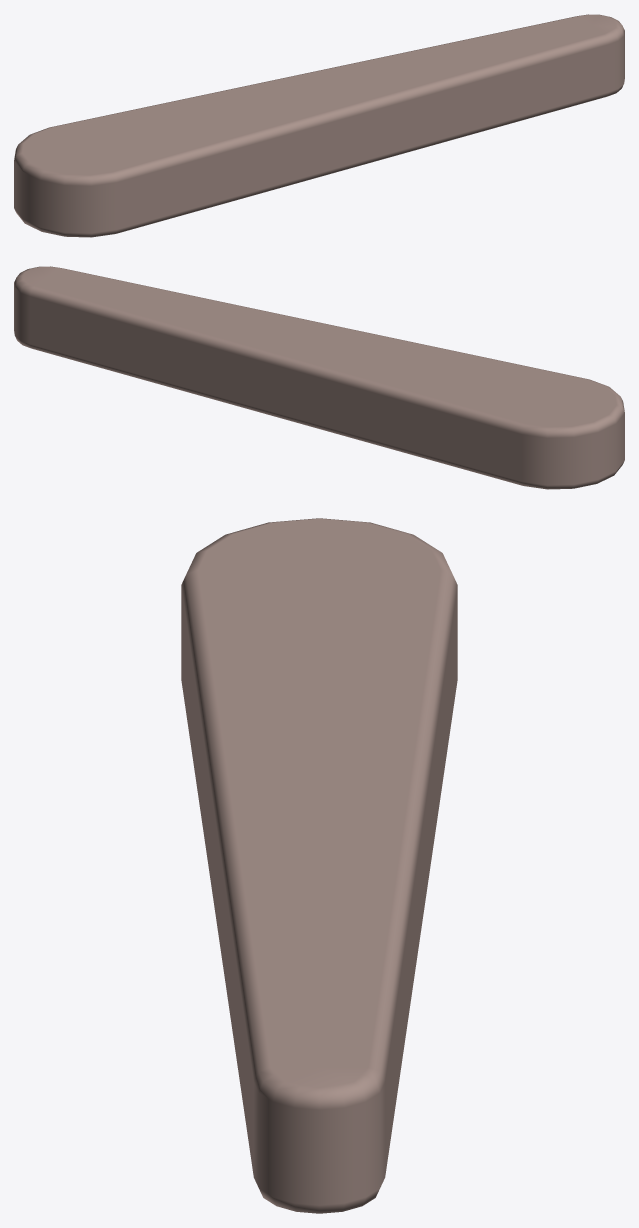
File: SM_PinballFlipper.fbx
3 renders of one model, top to bottom at view 1: azimuth 30°, elevation 25°; view 2: azimuth 150°, elevation 25°; view 3: azimuth 270°, elevation 25°, orthographic. The views are drawn at different scales.
Parts seen in each view (by area): view 1: SM_PinballHandle; view 2: SM_PinballHandle; view 3: SM_PinballHandle.
Part boxes in pixels (left/top/right/bottom): SM_PinballHandle: left=14, top=14, right=624, bottom=237; SM_PinballHandle: left=14, top=266, right=624, bottom=489; SM_PinballHandle: left=181, top=518, right=457, bottom=1213.
Bounding box in the file's own units: 500 × 50 × 100.
